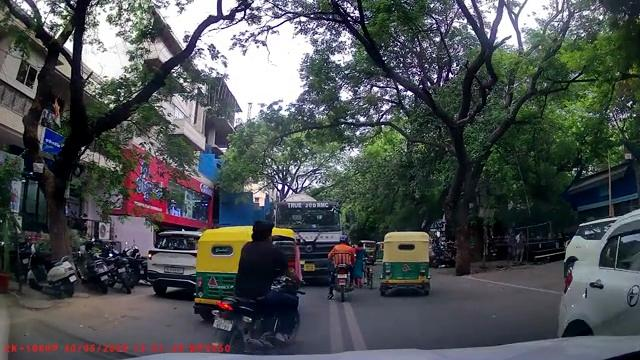motorcycle_with_helmet: (325, 233, 357, 302)
motorcycle_without_helmet: (213, 219, 303, 354)
